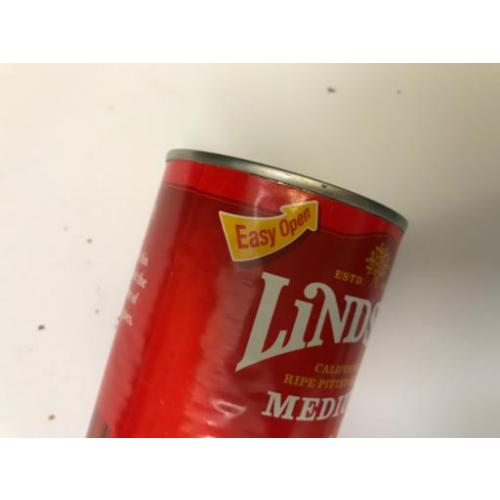metal: (86, 148, 409, 437)
